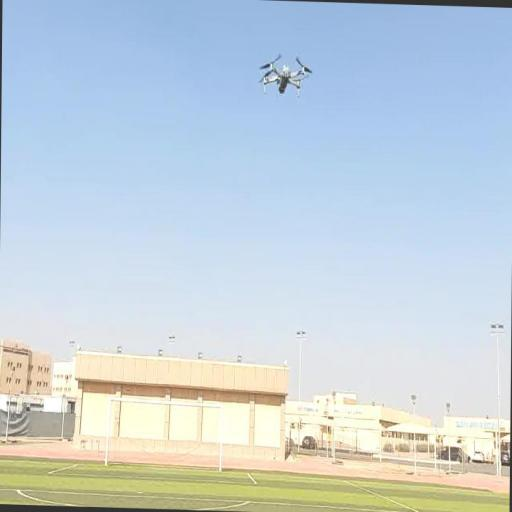drone: (256, 51, 316, 95)
